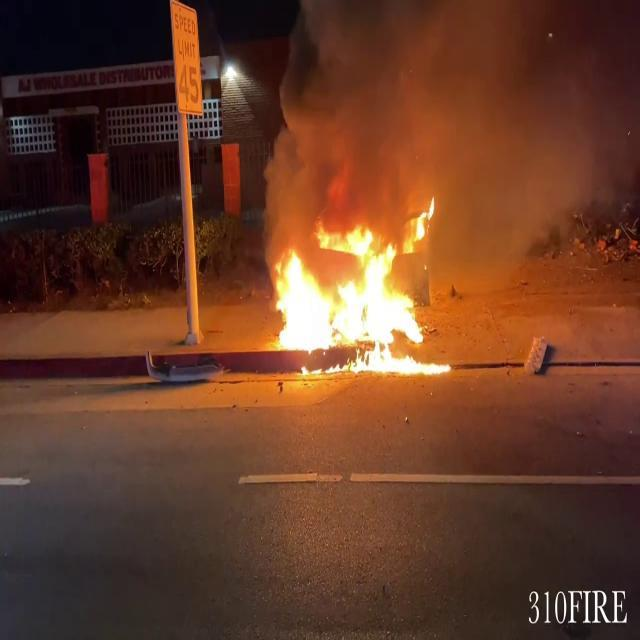Fire: (258, 215, 448, 376)
Smoke: (253, 0, 639, 235)
